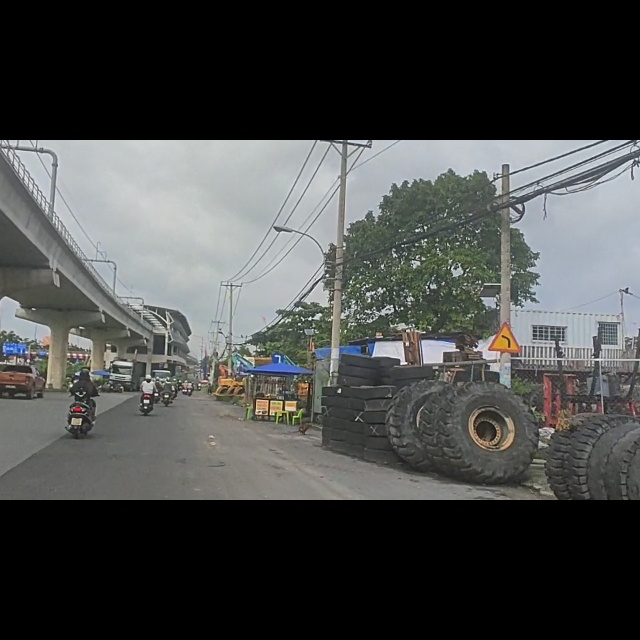bien_hieu_lenh: (489, 322, 523, 382), (271, 376, 285, 399)
